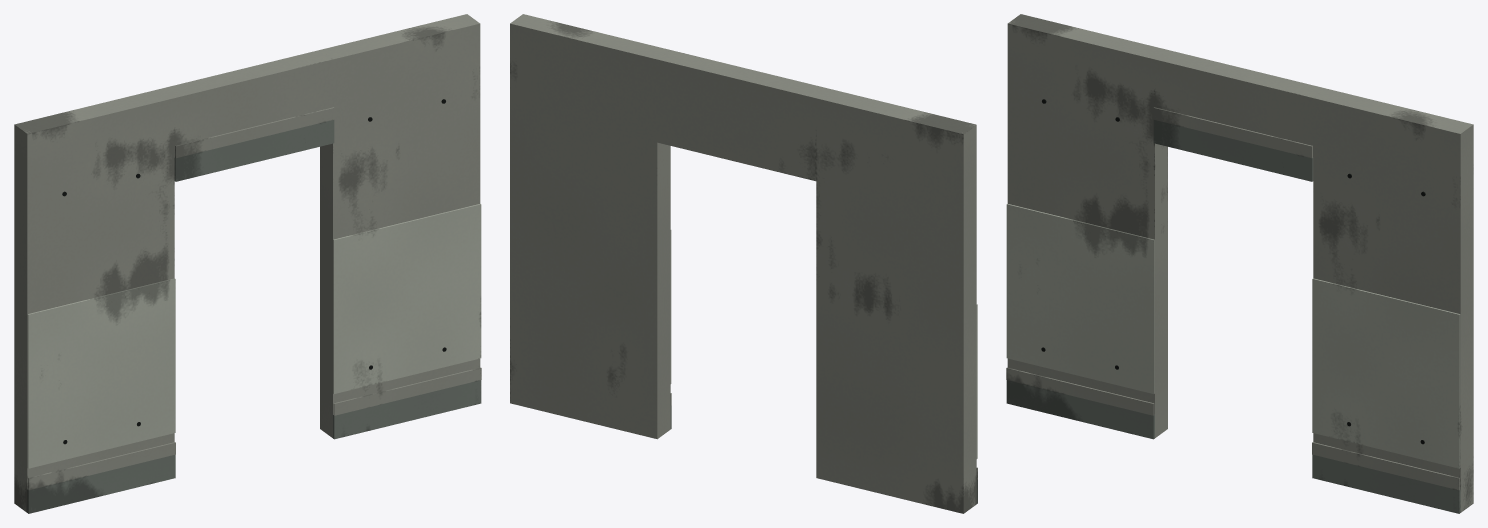
The model's file is wall_doorway_4m.glb.
3 views of the same model, side by side, from view 1: azimuth 30°, elevation 25°; view 2: azimuth 150°, elevation 25°; view 3: azimuth 330°, elevation 25° (orthographic).
Visible parts, largest first — view 1: wall_doorway_4m; view 2: wall_doorway_4m; view 3: wall_doorway_4m.
Boxes of the visible parts, bbox=[...] form: wall_doorway_4m: bbox=[14, 14, 481, 513]; wall_doorway_4m: bbox=[510, 14, 977, 513]; wall_doorway_4m: bbox=[1006, 14, 1473, 513].
Size of what is drawn, in the model's own units: 4 by 3.2 by 0.22.
Materials: 1 (1 with a texture image).
